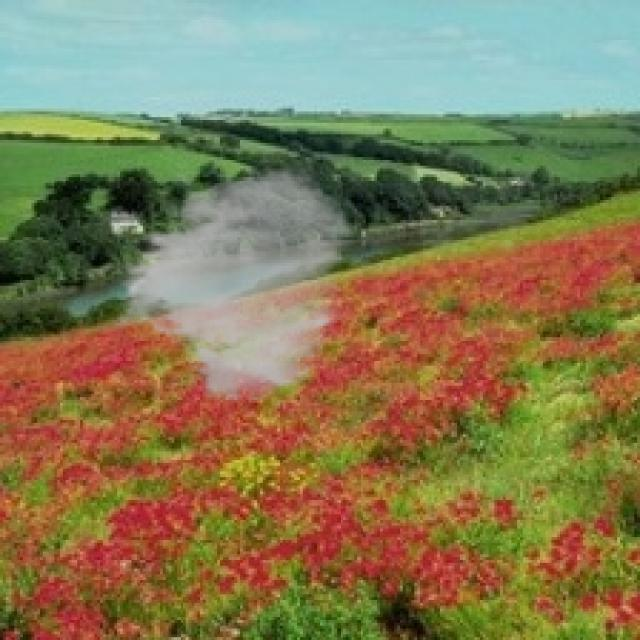Smoke: (109, 166, 358, 406)
